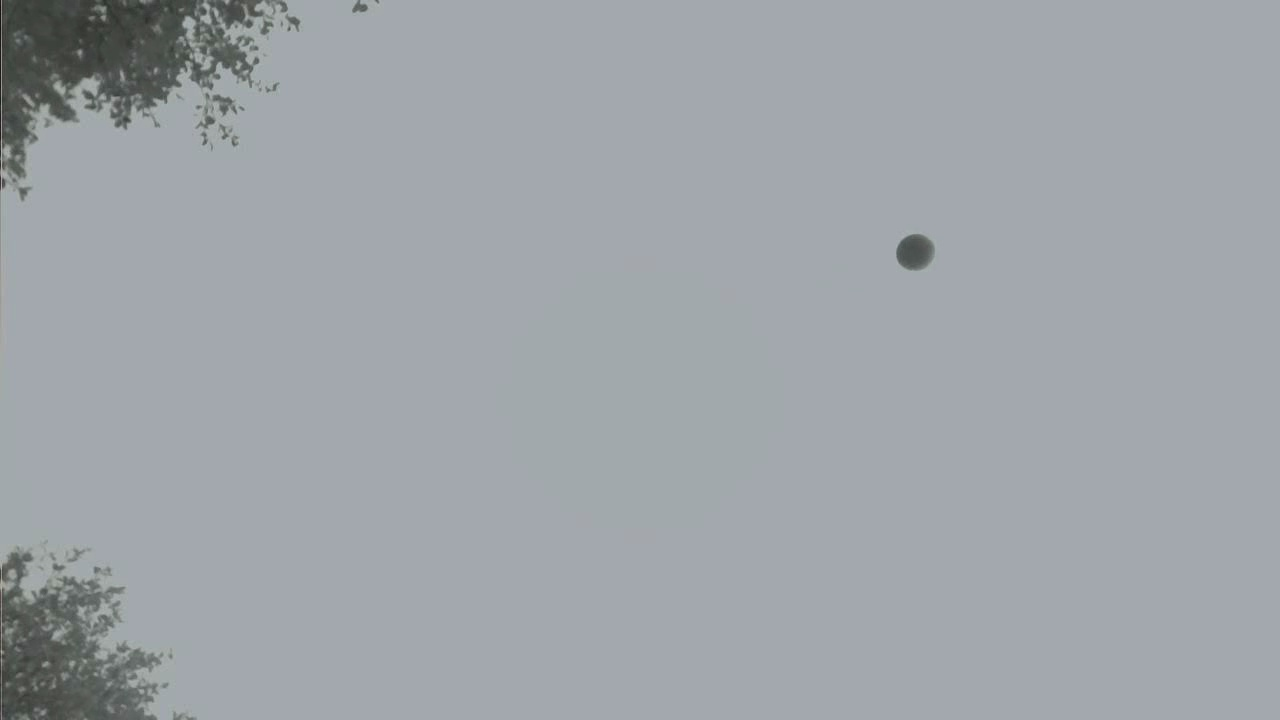Football-Spotter: (897, 234, 934, 270)
